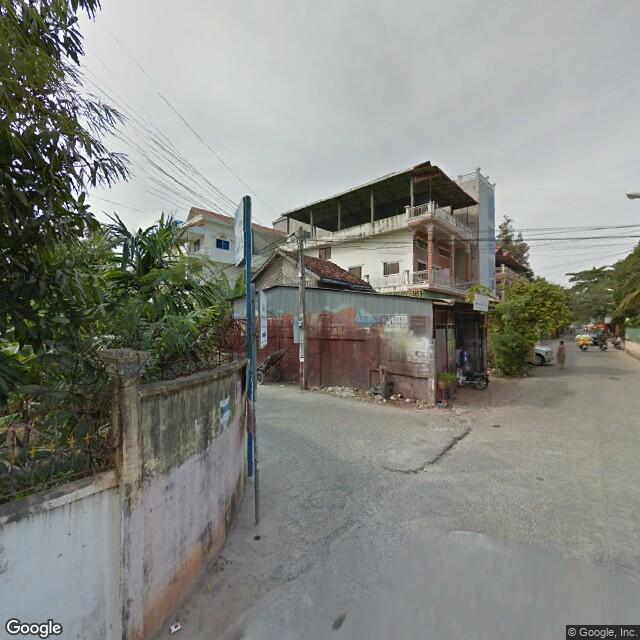litter: (318, 383, 359, 401), (166, 611, 190, 634), (393, 390, 421, 403)
